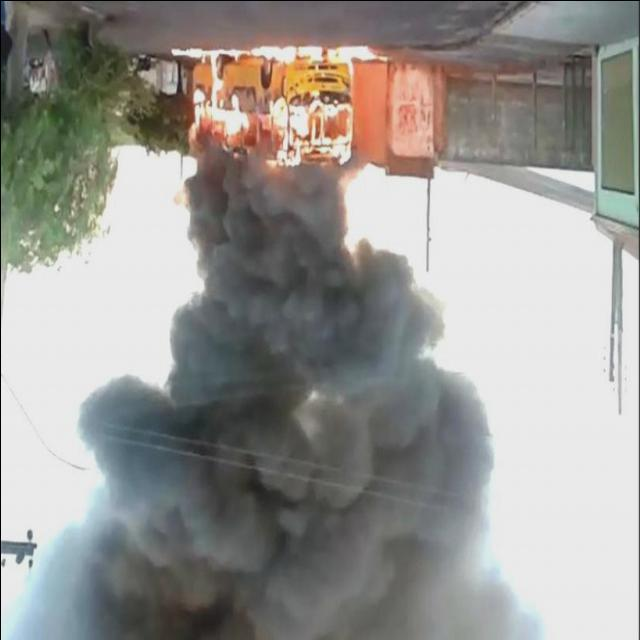Fire: (172, 42, 372, 170)
